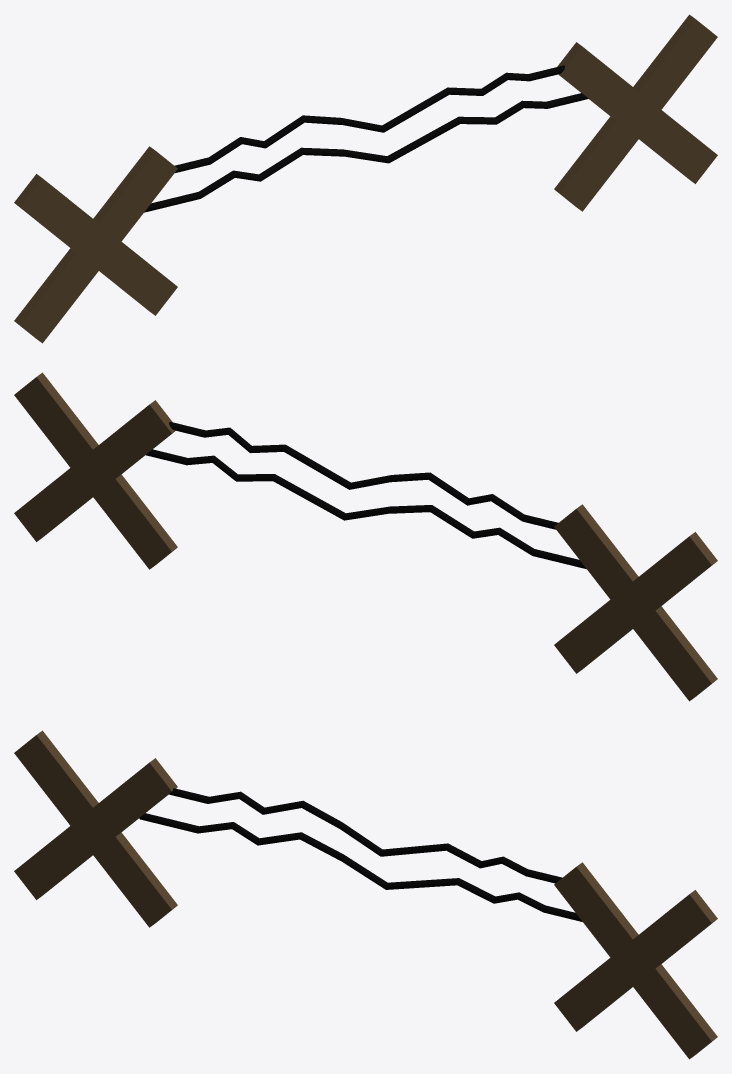
File: Blocks.fbx
3 renders of one model, top to bottom at view 1: azimuth 30°, elevation 25°; view 2: azimuth 150°, elevation 25°; view 3: azimuth 330°, elevation 25°, orthographic.
Parts seen in each view (by area): view 1: Cube.010, Cube.003, Cylinder.001; view 2: Cube.010, Cube.003, Cylinder.001; view 3: Cube.003, Cube.010, Cylinder.001.
Part boxes in pixels (x1,y1,x2,y2): Cube.010: (14,146,177,343); Cube.003: (554,14,717,211); Cylinder.001: (144,65,588,212); Cube.010: (554,504,717,701); Cube.003: (14,372,177,569); Cylinder.001: (145,421,586,568); Cube.003: (554,862,717,1059); Cube.010: (14,730,177,927); Cylinder.001: (139,788,582,921).
Size of the model in its own units: 982 by 222 by 17.39.
